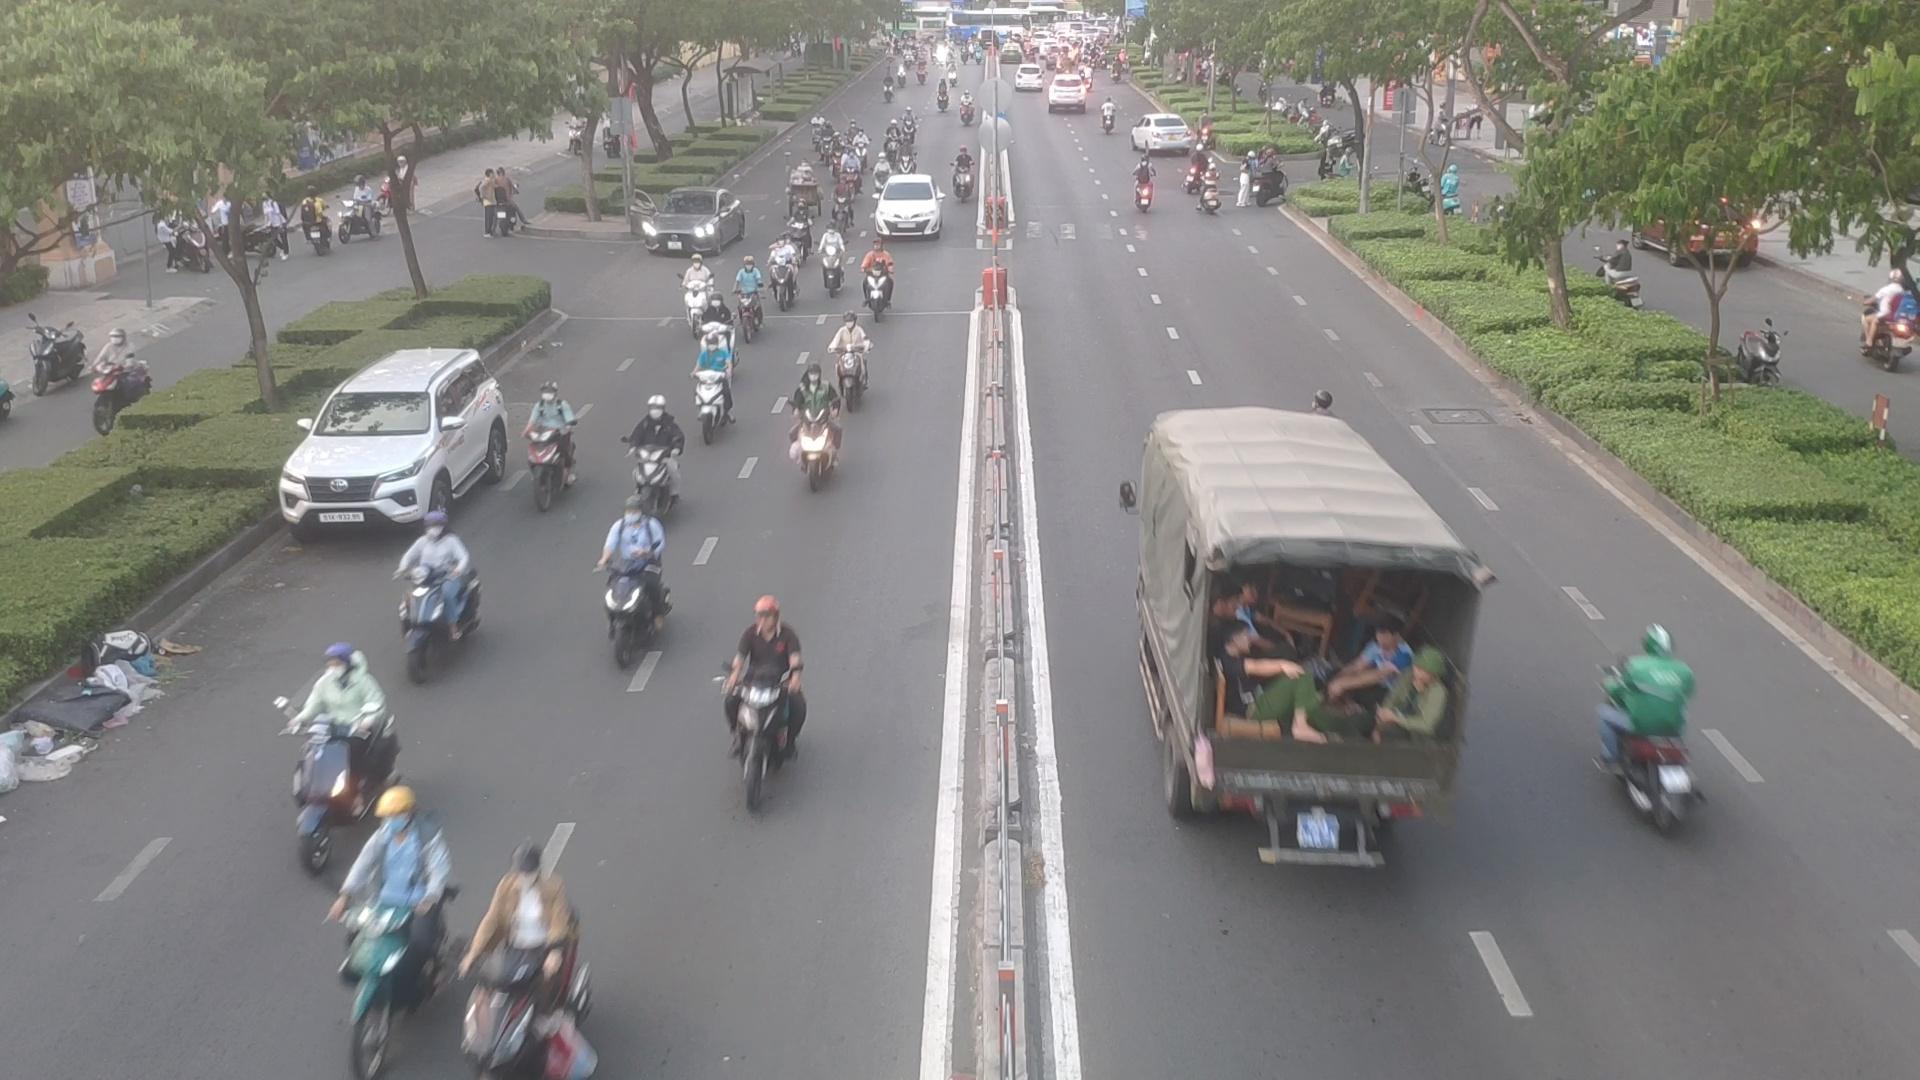car: (1126, 407, 1458, 918), (282, 356, 479, 541), (632, 190, 752, 258), (870, 177, 943, 240), (1137, 115, 1199, 156)
motorbike: (1549, 599, 1691, 853), (454, 852, 582, 1075), (334, 789, 440, 1036), (702, 595, 814, 804), (289, 637, 380, 844), (400, 518, 473, 669), (579, 502, 651, 647), (789, 355, 843, 492), (628, 382, 676, 525), (516, 392, 563, 506), (691, 342, 740, 444), (828, 307, 858, 404), (860, 247, 891, 320), (699, 289, 733, 355), (680, 258, 713, 316), (735, 265, 764, 330), (818, 232, 843, 298), (775, 236, 796, 307), (949, 150, 975, 199), (881, 120, 905, 169), (1126, 162, 1150, 208), (1200, 170, 1222, 219), (793, 200, 812, 255), (831, 174, 845, 229), (843, 146, 861, 189), (1184, 152, 1204, 190), (825, 131, 841, 174), (897, 142, 916, 177), (901, 104, 916, 144), (873, 152, 886, 195), (855, 131, 868, 162)
